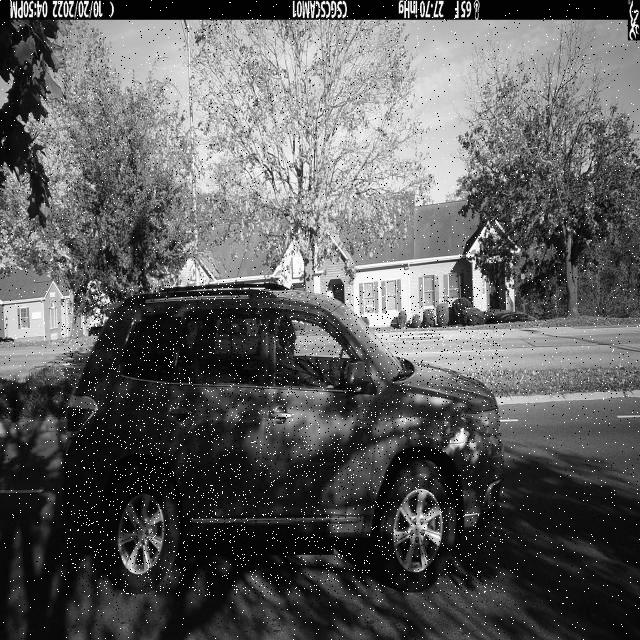SUV: (61, 285, 504, 596)
